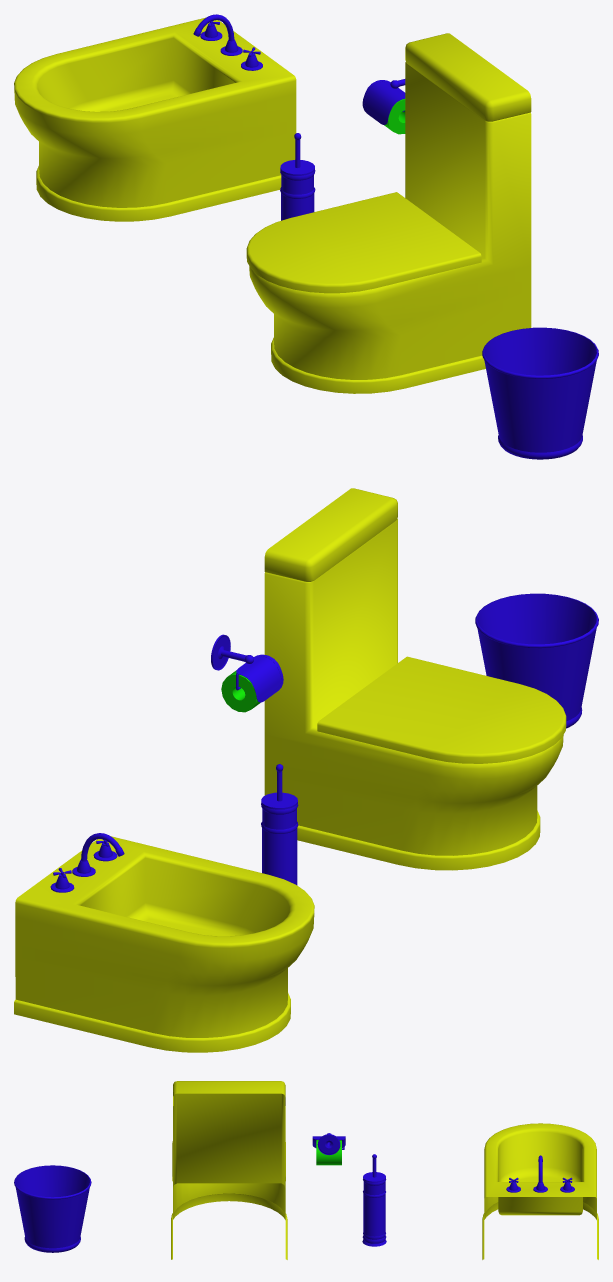
Rendered from sm_toilet.fbx.
The picture shows the model from 3 angles, top to bottom: view 1: azimuth 30°, elevation 25°; view 2: azimuth 150°, elevation 25°; view 3: azimuth 270°, elevation 25°; orthographic projection. The views are drawn at different scales.
Visible parts, largest first — view 1: sm_toilet.001, sm_bidet, sm_toilet, sm_trashcan, sm_toilet_brush, sm_toilet_paper.004; view 2: sm_toilet.001, sm_bidet, sm_toilet, sm_trashcan, sm_toilet_brush, sm_toilet_paper.004, sm_toilet_paper.002; view 3: sm_toilet.001, sm_bidet, sm_trashcan, sm_toilet_brush, sm_toilet_paper.002, sm_toilet_paper.003.
Part boxes in pixels (bbox=[...]): sm_toilet.001: bbox=[249, 33, 531, 393]; sm_bidet: bbox=[14, 17, 296, 221]; sm_toilet: bbox=[246, 192, 481, 293]; sm_trashcan: bbox=[482, 327, 598, 459]; sm_toilet_brush: bbox=[280, 170, 315, 220]; sm_toilet_paper.004: bbox=[362, 80, 405, 125]; sm_toilet.001: bbox=[264, 488, 563, 870]; sm_bidet: bbox=[14, 836, 314, 1052]; sm_toilet: bbox=[317, 656, 566, 763]; sm_trashcan: bbox=[475, 593, 598, 728]; sm_toilet_brush: bbox=[261, 803, 298, 885]; sm_toilet_paper.004: bbox=[236, 654, 283, 702]; sm_toilet_paper.002: bbox=[221, 670, 260, 712]; sm_toilet.001: bbox=[171, 1081, 287, 1259]; sm_bidet: bbox=[482, 1123, 598, 1259]; sm_trashcan: bbox=[14, 1165, 91, 1252]; sm_toilet_brush: bbox=[362, 1179, 386, 1246]; sm_toilet_paper.002: bbox=[316, 1140, 341, 1165]; sm_toilet_paper.003: bbox=[317, 1134, 340, 1155].
Size of the model in its own units: 88.5 by 92.66 by 282.
